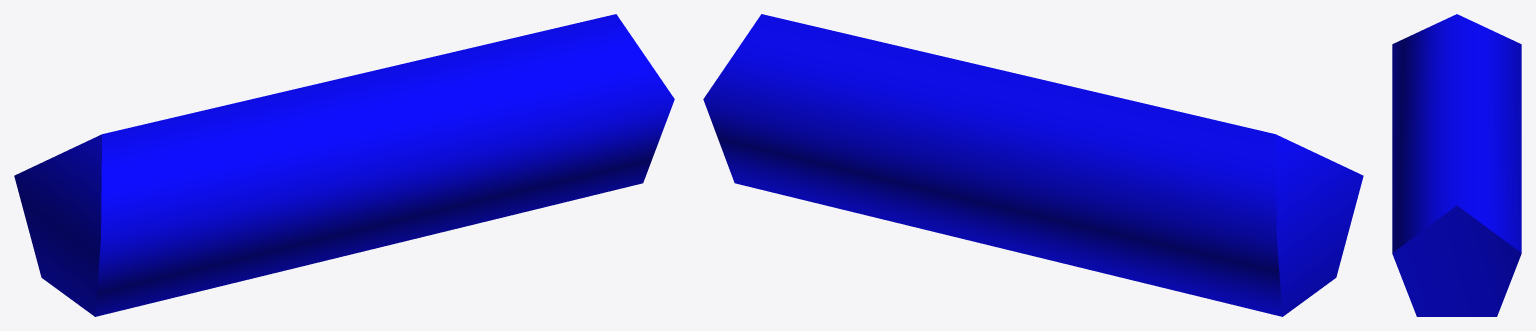
The model's file is Crayon_A.FBX.
3 renders of one model, left to right at view 1: azimuth 30°, elevation 25°; view 2: azimuth 150°, elevation 25°; view 3: azimuth 270°, elevation 25°, orthographic. The views are drawn at different scales.
Parts seen in each view (by area): view 1: Crayon_And_Chalk; view 2: Crayon_And_Chalk; view 3: Crayon_And_Chalk.
Part boxes in pixels (x1,y1,x2,y2): Crayon_And_Chalk: [14, 14, 674, 316]; Crayon_And_Chalk: [703, 14, 1363, 316]; Crayon_And_Chalk: [1392, 14, 1521, 316].
Size of the model in its own units: 29.04 by 7.49 by 7.61.
